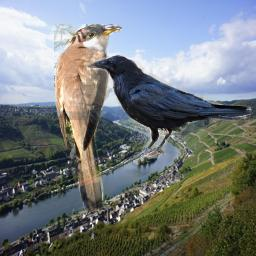Crow: (86, 54, 253, 159)
Cuckoo: (54, 24, 122, 211)
